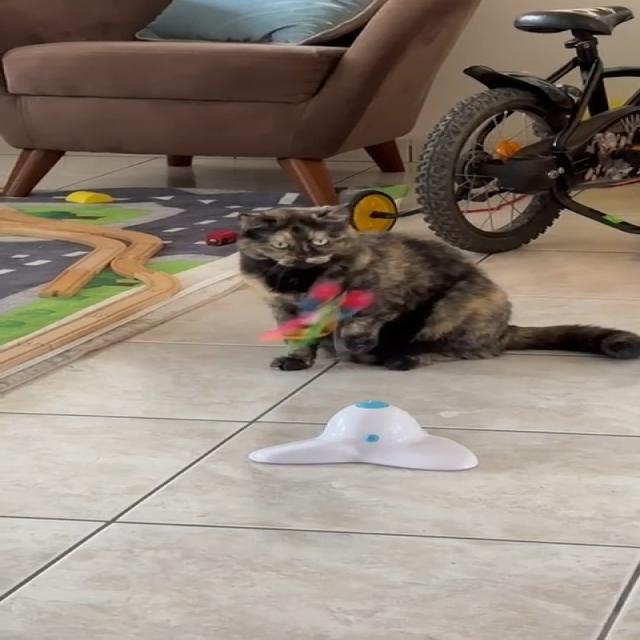authorized: (234, 202, 638, 372)
